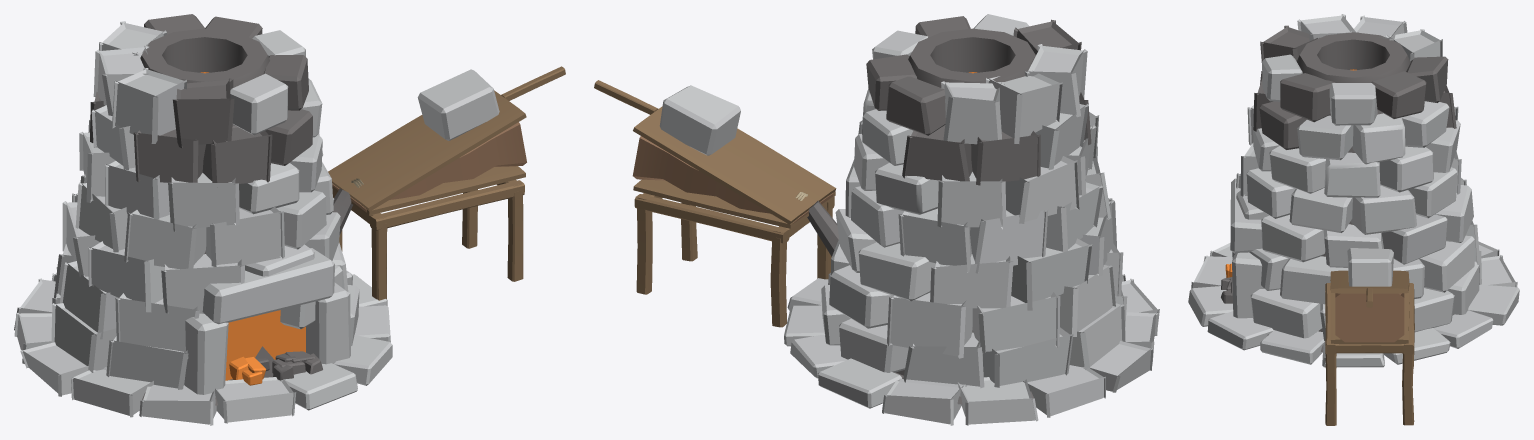
The model's file is Bloomery.fbx.
3 renders of one model, left to right at view 1: azimuth 30°, elevation 25°; view 2: azimuth 150°, elevation 25°; view 3: azimuth 270°, elevation 25°, orthographic. The views are drawn at different scales.
Parts seen in each view (by area): view 1: Bloomery; view 2: Bloomery; view 3: Bloomery.
Boxes of the visible parts, bbox=[...] form: Bloomery: bbox=[14, 14, 565, 425]; Bloomery: bbox=[594, 14, 1159, 425]; Bloomery: bbox=[1188, 14, 1519, 425].
Size of the model in its own units: 4.9 by 2.57 by 3.07.
